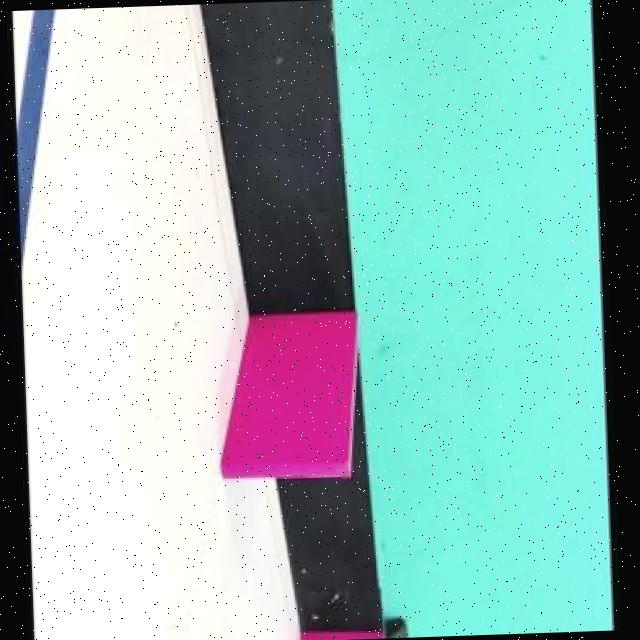xparking: (216, 324, 342, 478), (295, 633, 375, 640)
